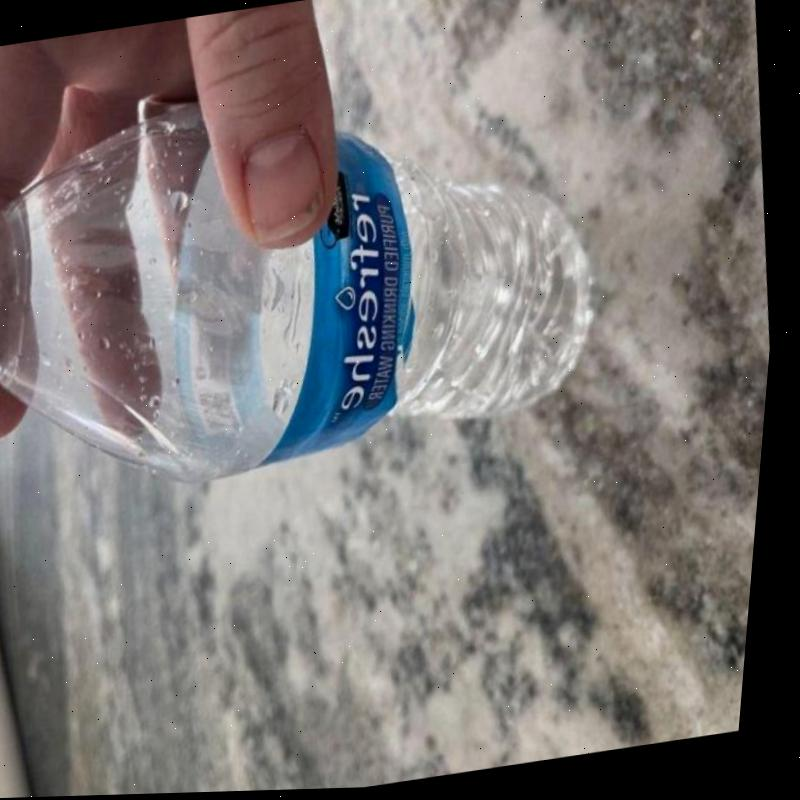botella: (0, 45, 628, 513)
